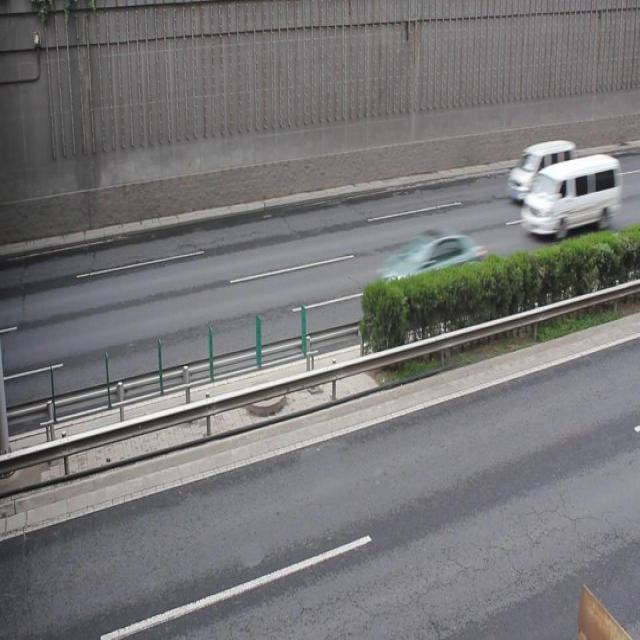car: (377, 229, 485, 307)
truck: (519, 155, 619, 235), (507, 138, 575, 202)
